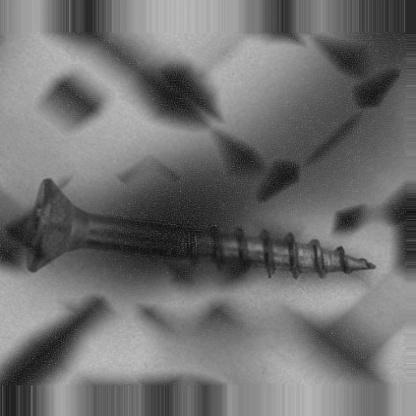metal: (22, 177, 378, 281)
